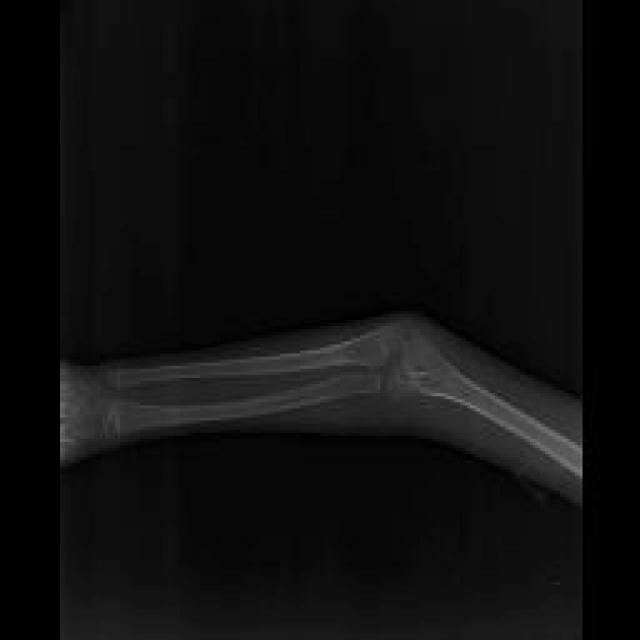normal: (60, 325, 580, 475)
